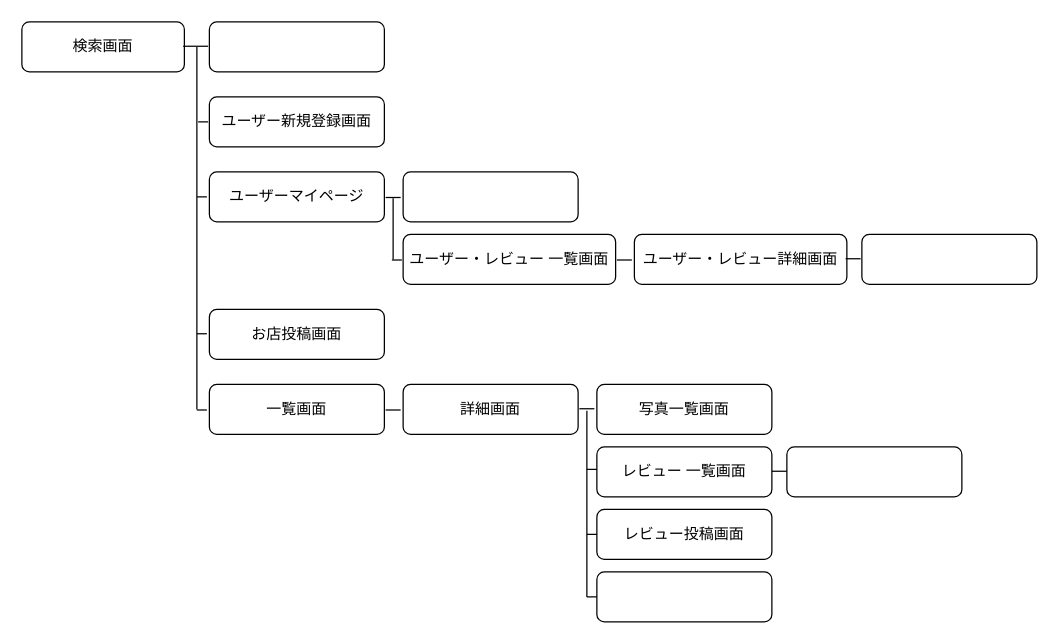
The diagram is 1059 pixels wide and 644 high, and some of its shapes have lost their labels. The box of each missing label's shape, as (x1, y1, x2, y2) in pixels:
お店情報編集画面: (596, 571, 772, 622)
ユーザーログイン画面: (208, 21, 384, 72)
ユーザー編集画面: (402, 171, 578, 222)
レビュー編集画面: (861, 233, 1037, 284)
レビュー詳細画面: (786, 446, 962, 497)
